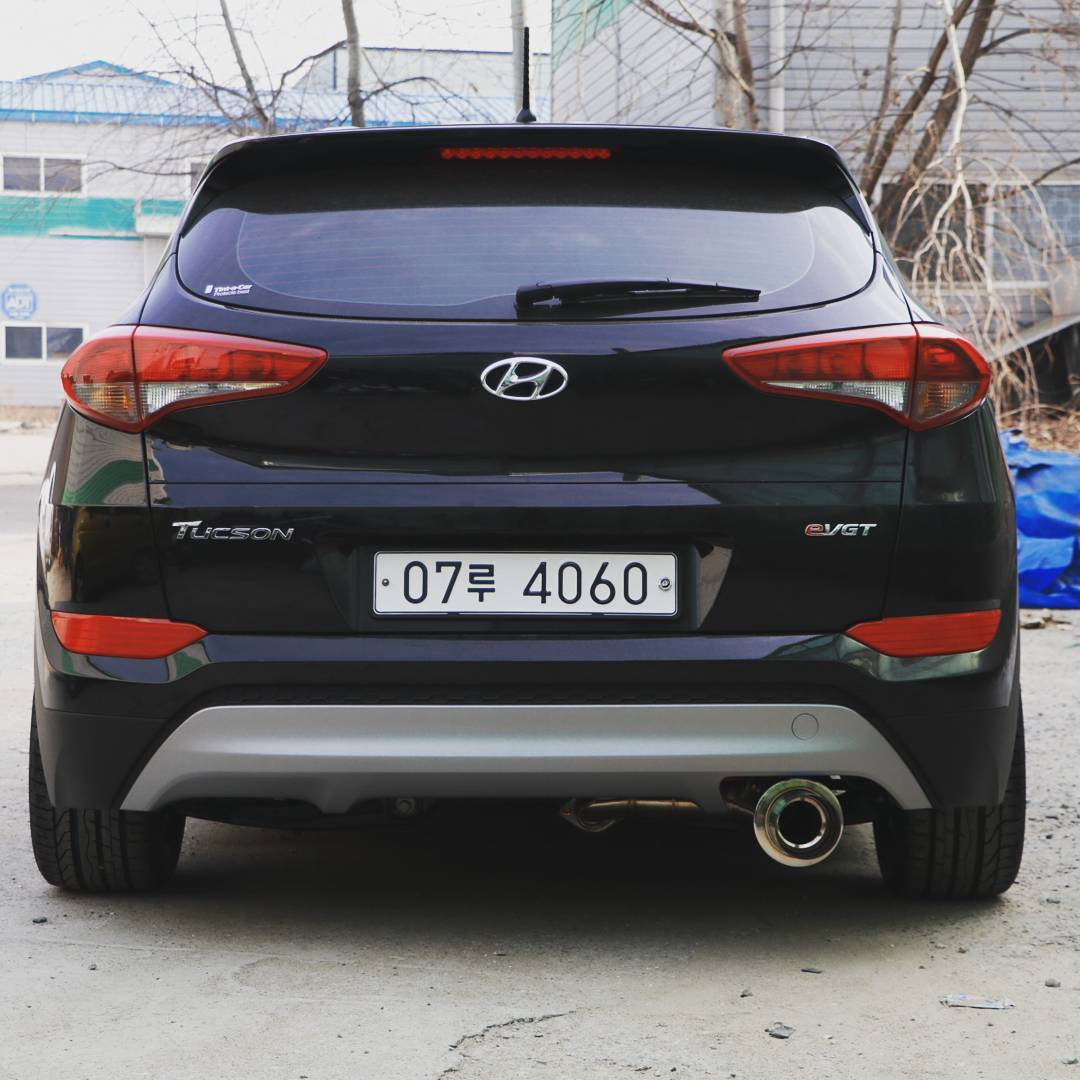plate: (374, 551, 676, 614)
